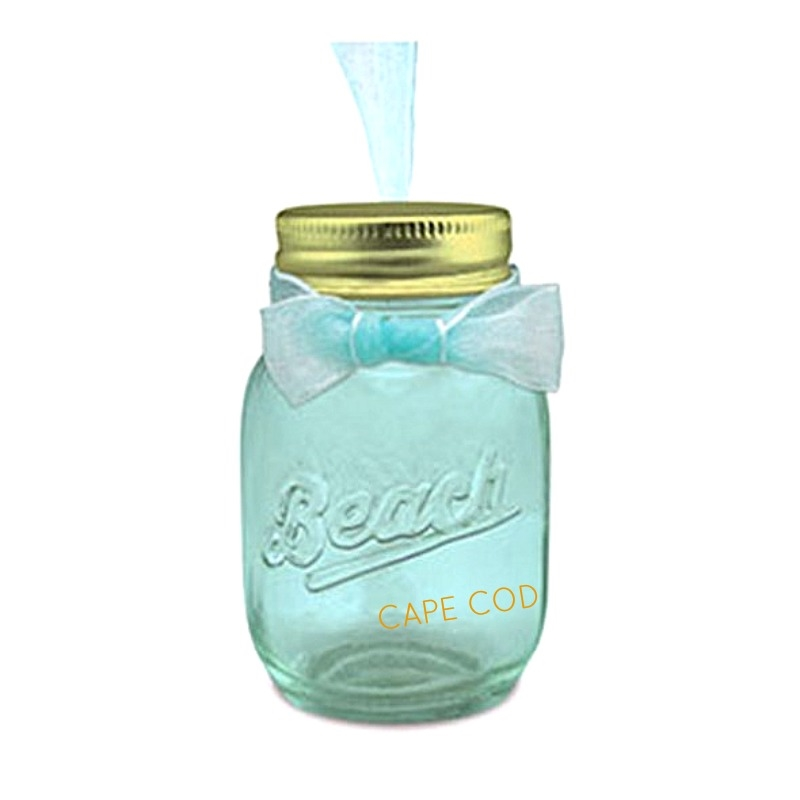Rec_Glass: (224, 201, 559, 728)
